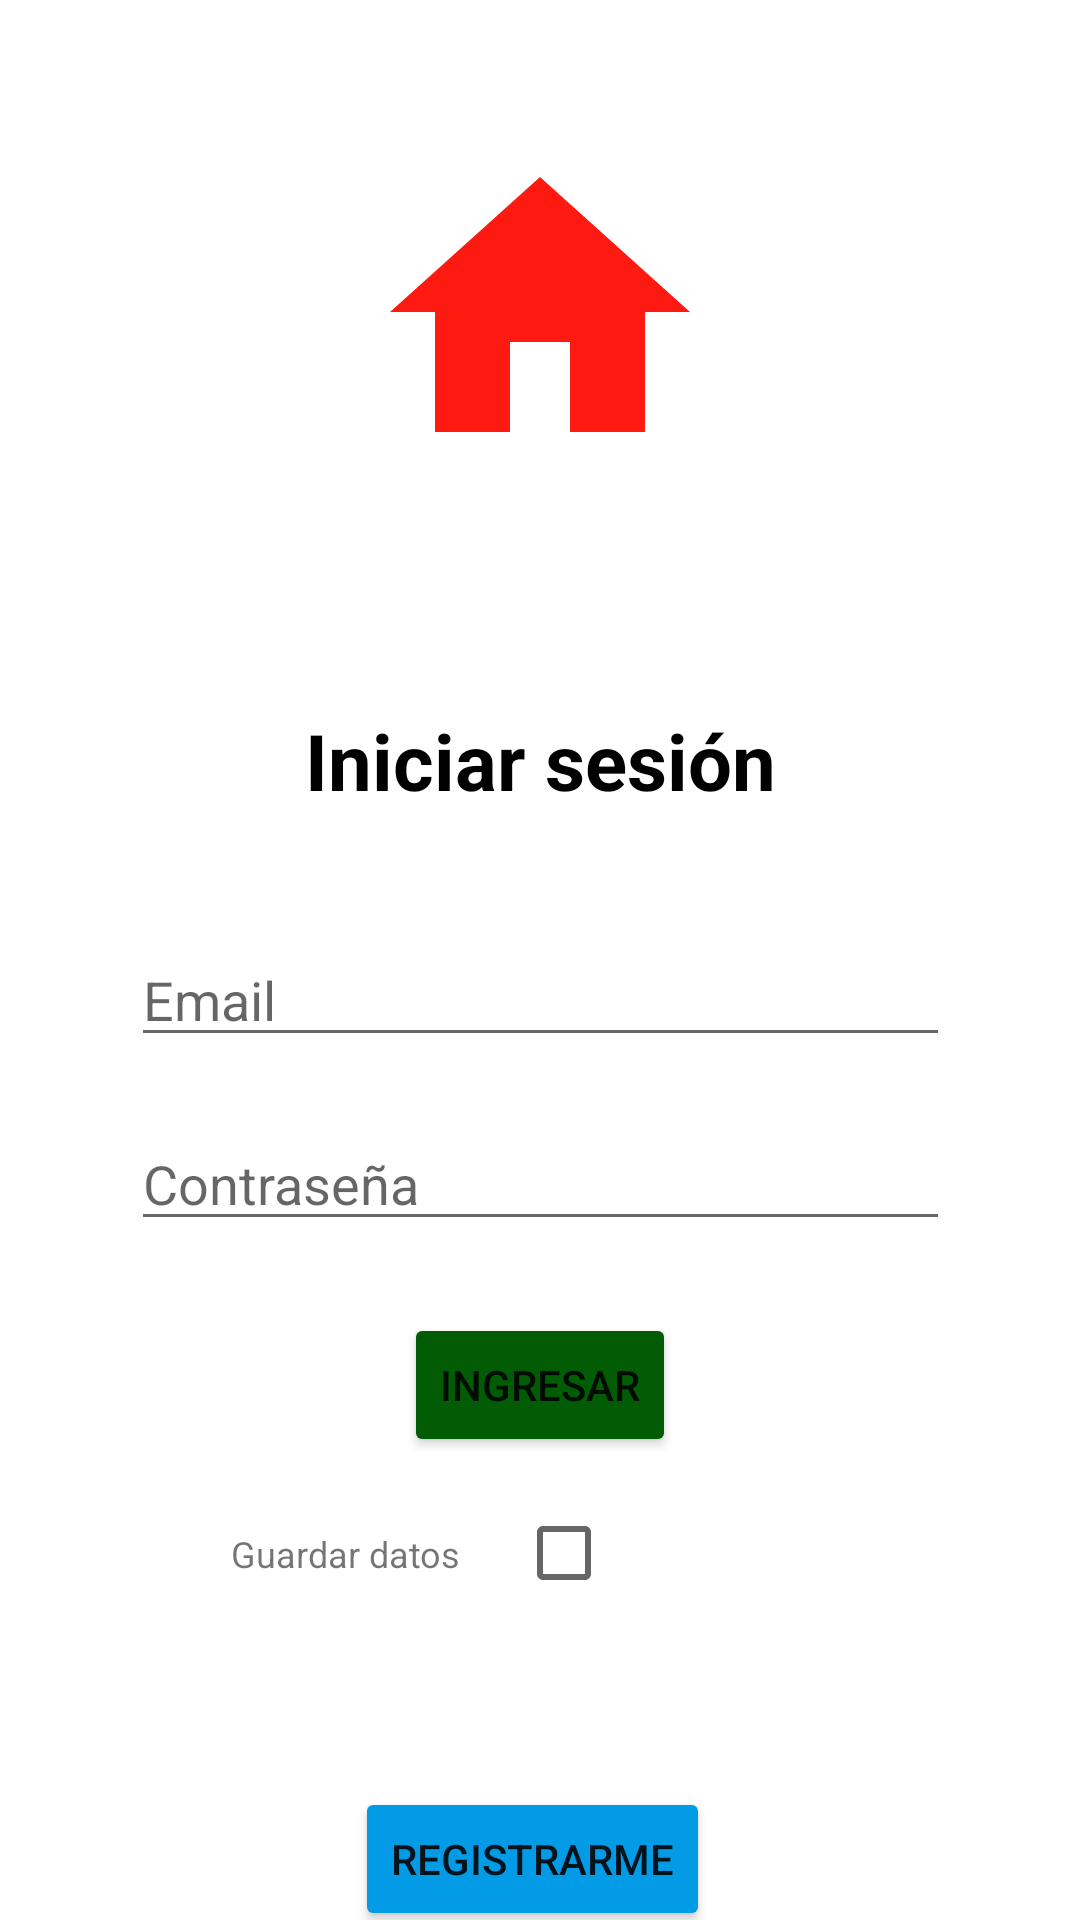

Screen size 1080px x 1920px. Icon name, then its box in pixels as (x1, y1, x2, y2):
home: (390, 177, 690, 432)
